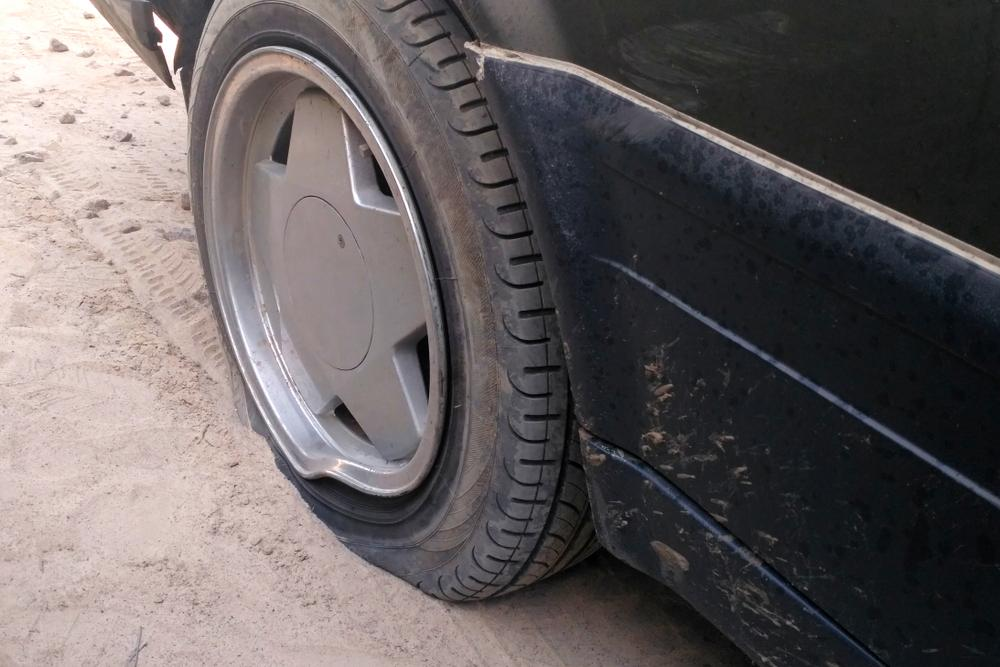tire flat: (187, 0, 602, 606)
